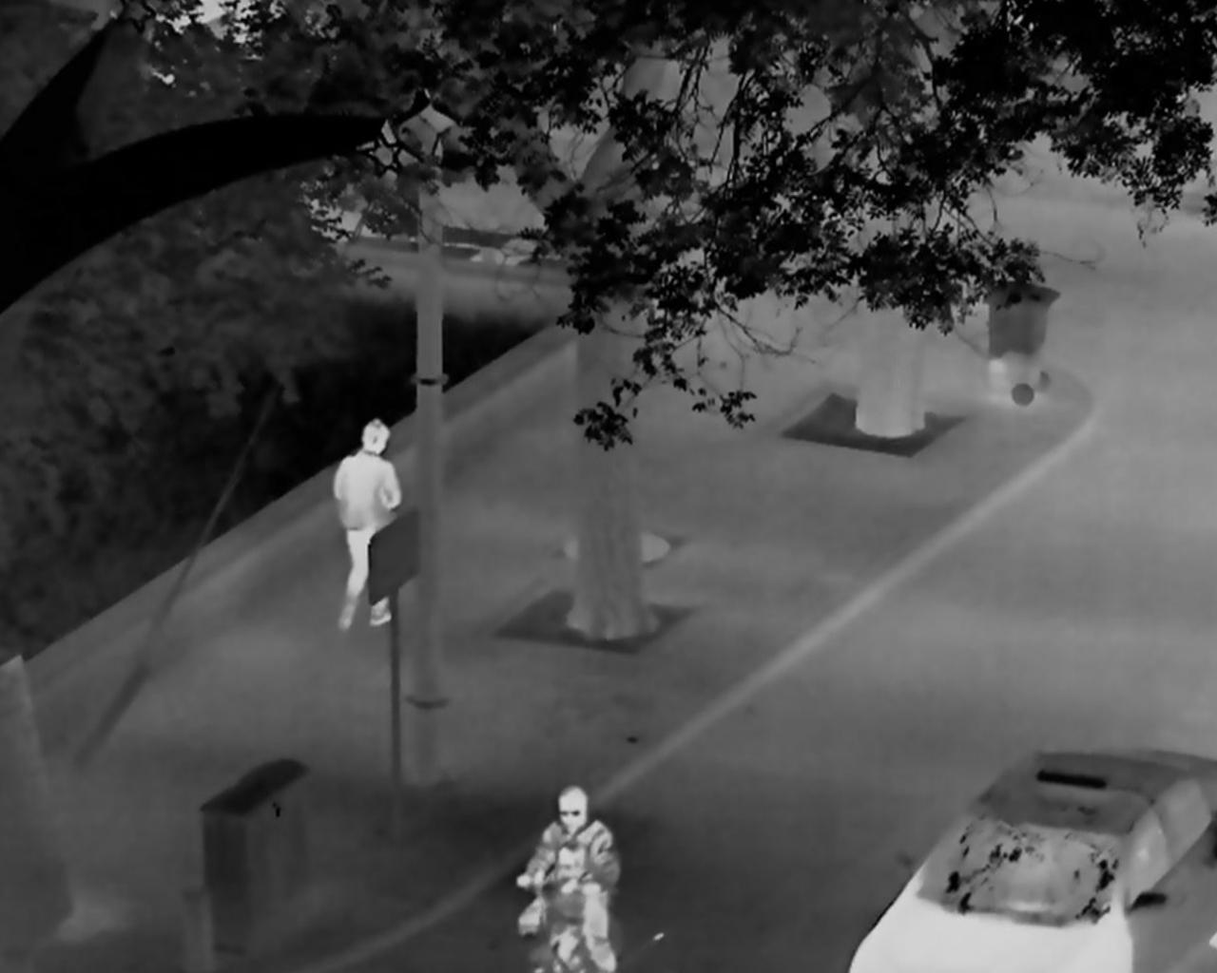person: (515, 777, 627, 973), (333, 417, 401, 630), (516, 843, 601, 973)
